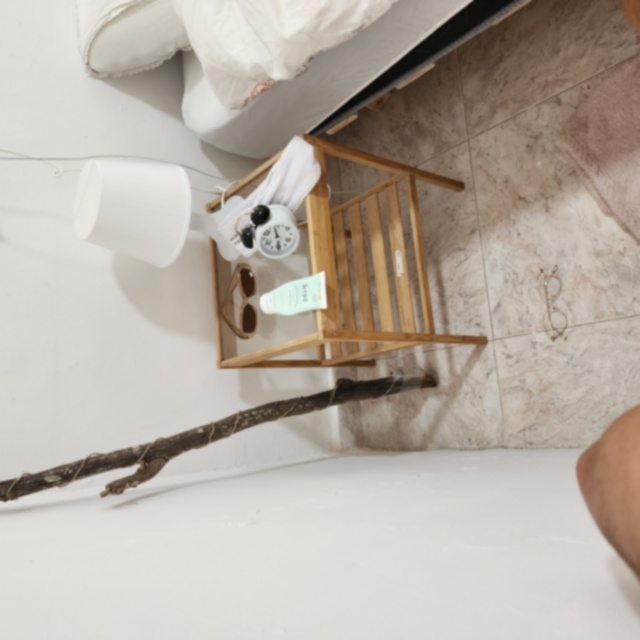glasses: (215, 261, 264, 341), (533, 261, 572, 342)
